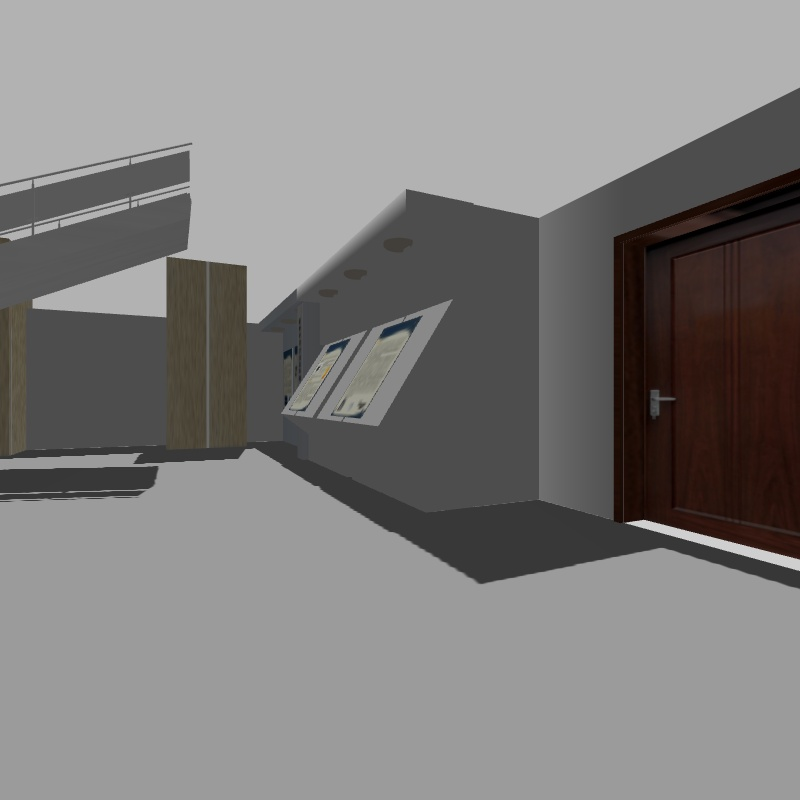handle: (635, 379, 677, 419)
